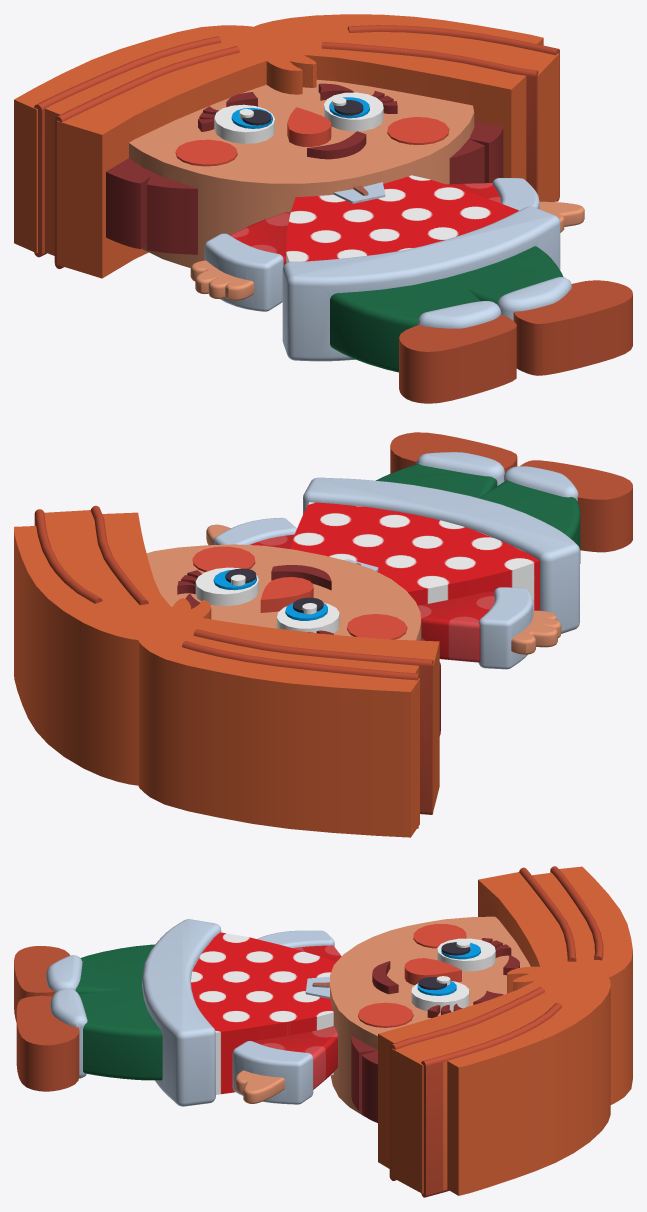
Rendered from kosei.glb.
3 views of the same model, one above another, from view 1: azimuth 30°, elevation 25°; view 2: azimuth 150°, elevation 25°; view 3: azimuth 270°, elevation 25° (orthographic). The views are drawn at different scales.
Visible parts, largest first — view 1: Curve.014; view 2: Curve.014; view 3: Curve.014.
Part boxes in pixels (left/top/right/bottom): Curve.014: left=14, top=14, right=632, bottom=403; Curve.014: left=14, top=432, right=632, bottom=837; Curve.014: left=14, top=866, right=632, bottom=1197.
Size of the model in its own units: 3.44 by 1.09 by 4.48.
Materials: 1 (1 with a texture image).
